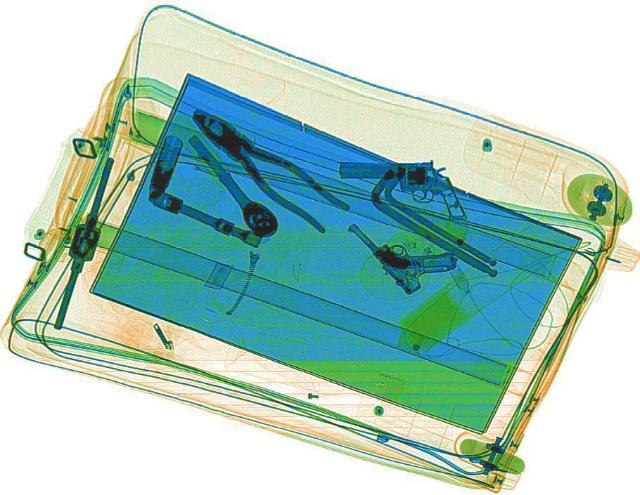Gun: (339, 200, 463, 293), (338, 159, 464, 221)
Pliers: (170, 95, 358, 235)
